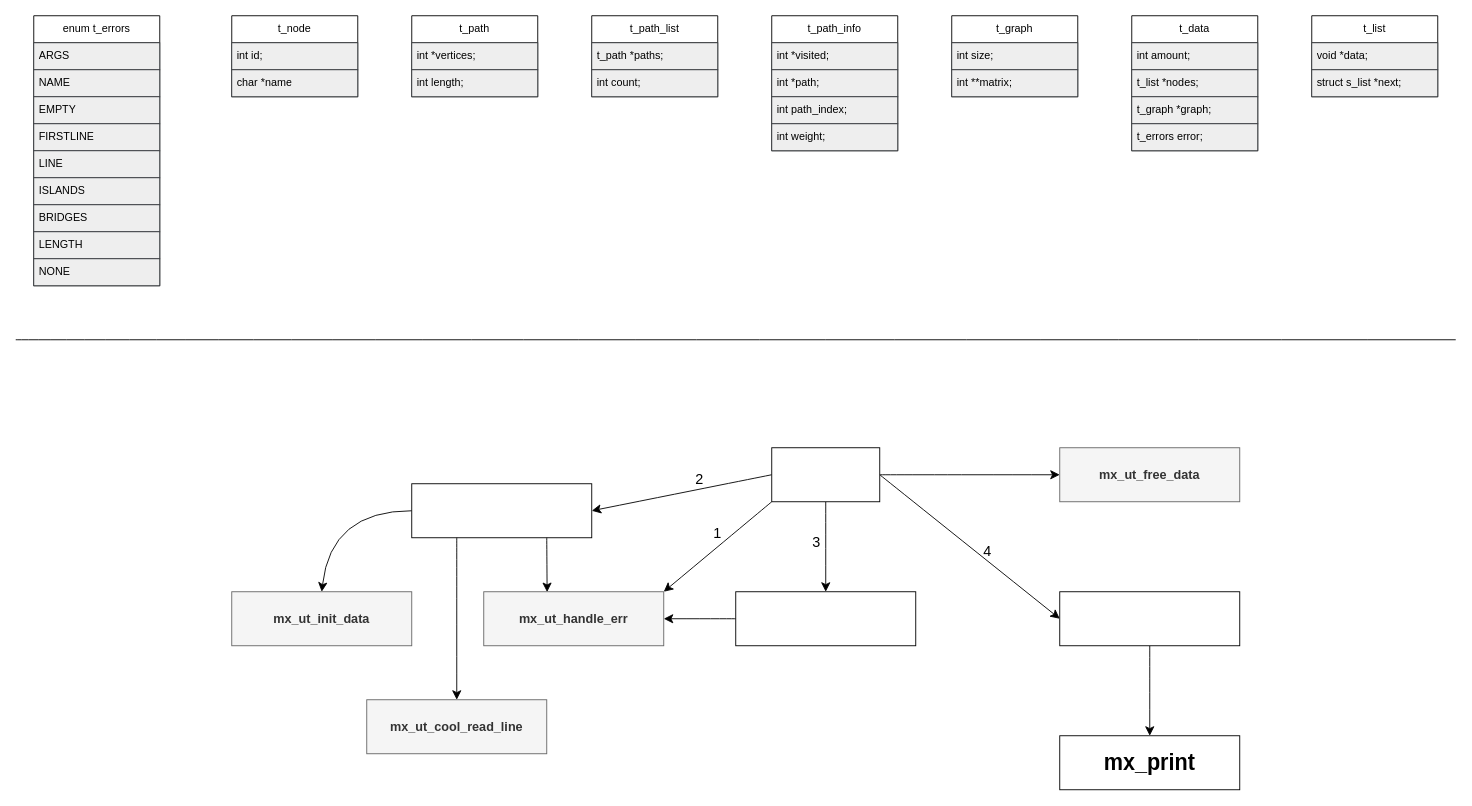
Image size: 1472x806. Some labels were removed from this diagram. The centre of each missing label's shape, as x and y in pixels:
"main" belongs at point (825, 474).
"mx_checkerr" belongs at point (825, 618).
"mx_parse_file" belongs at point (501, 510).
"mx_pathfinder" belongs at point (1149, 618).
